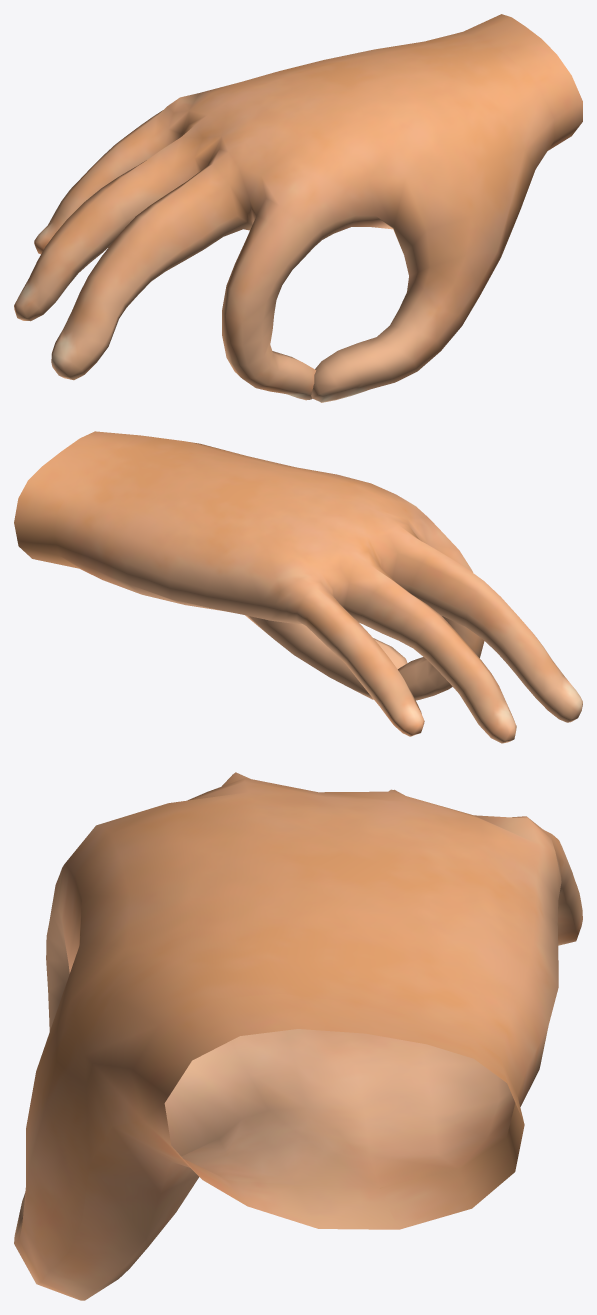
File: H_ring.fbx
3 renders of one model, top to bottom at view 1: azimuth 30°, elevation 25°; view 2: azimuth 150°, elevation 25°; view 3: azimuth 270°, elevation 25°, orthographic. The views are drawn at different scales.
Parts seen in each view (by area): view 1: H_ring; view 2: H_ring; view 3: H_ring.
Boxes of the visible parts, <box> form: H_ring: <box>14,14,582,402</box>; H_ring: <box>14,431,582,743</box>; H_ring: <box>14,772,582,1300</box>.
Bounding box in the file's own units: 19.14 × 9 × 9.82.
1 material, 1 textured.
